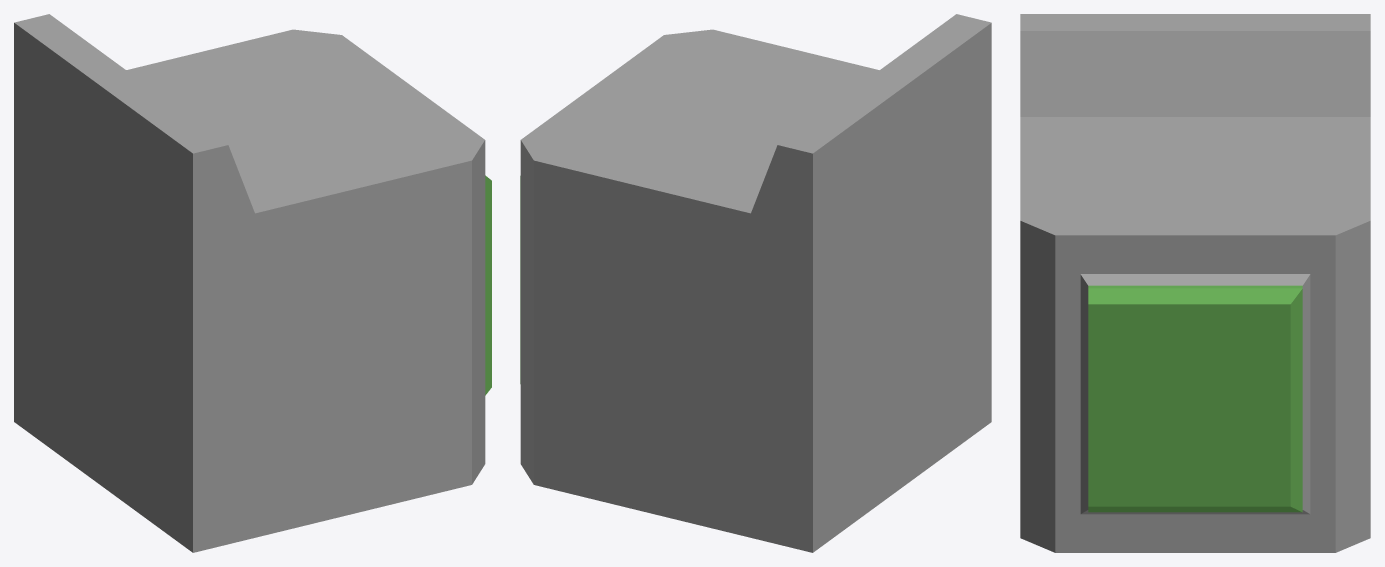
File: dtryer.fbx
3 views of the same model, side by side, from view 1: azimuth 30°, elevation 25°; view 2: azimuth 150°, elevation 25°; view 3: azimuth 270°, elevation 25° (orthographic). The views are drawn at different scales.
Parts seen in each view (by area): view 1: polySurface9, polySurface10; view 2: polySurface9; view 3: polySurface9, polySurface10.
Boxes of the visible parts, x1,y1,x2,y2 form: polySurface9: (14, 14, 485, 552); polySurface10: (485, 175, 491, 395); polySurface9: (520, 14, 991, 552); polySurface9: (1020, 14, 1370, 552); polySurface10: (1088, 285, 1302, 512).
Size of the model in its own units: 114 by 130 by 106.
